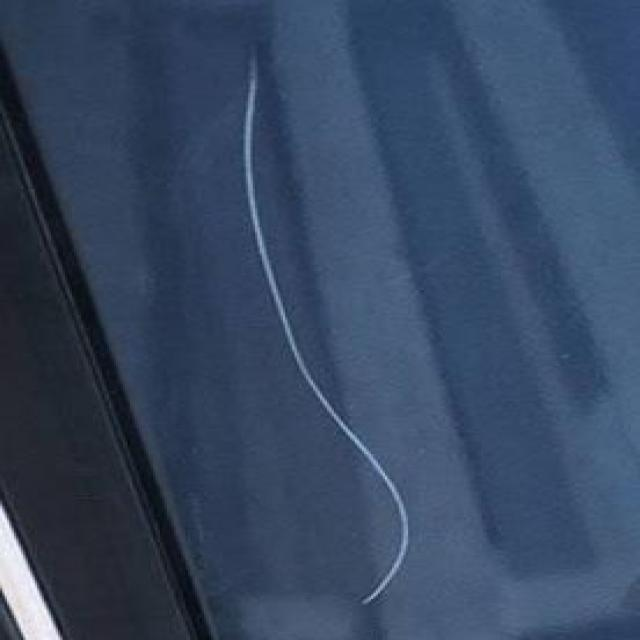scratch: (232, 29, 415, 614)
